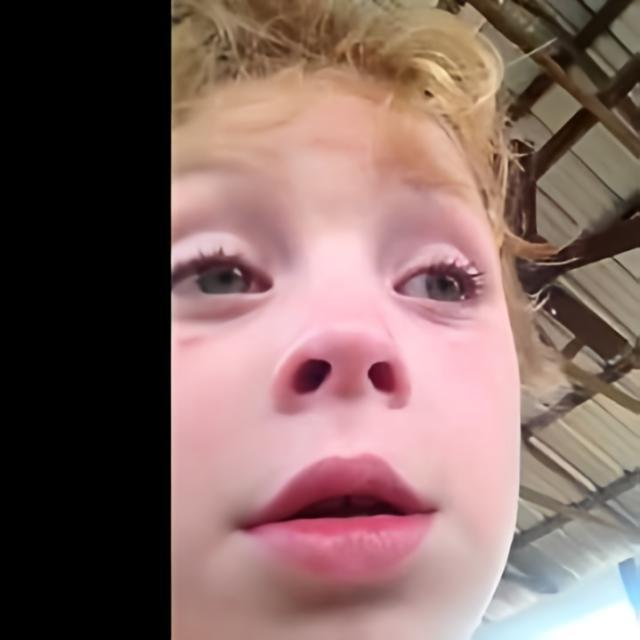fear: (173, 66, 520, 626)
